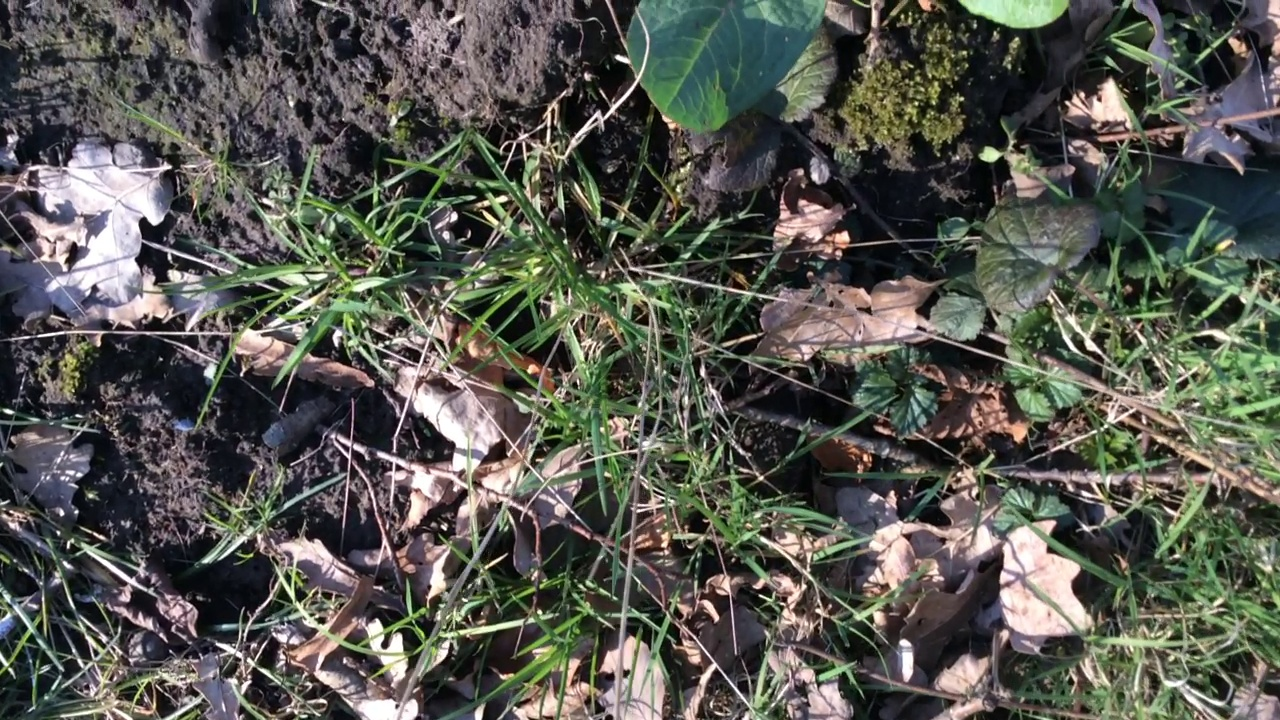rumex: (624, 1, 827, 135)
